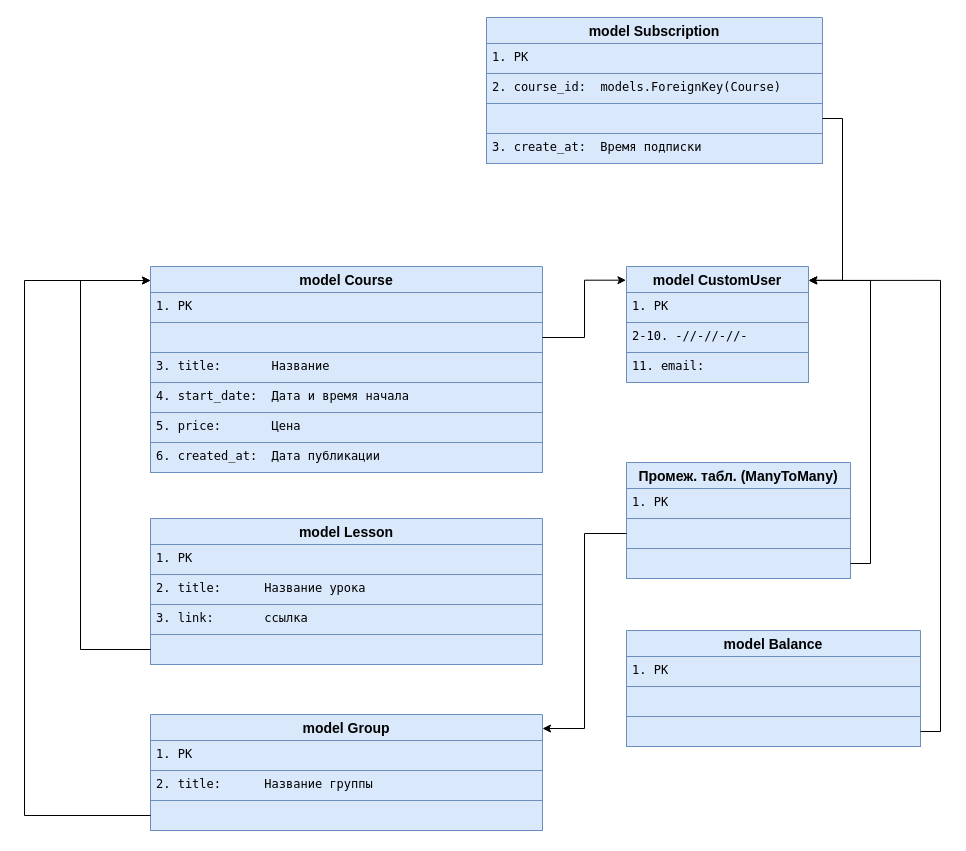
Image size: 966x851. Some labels were removed from this diagram. Each missing label, with the centre of its shape:
"2. author_id: models.ForeignKey('users.CustomUser')" goes at (346,337).
"2. balance:" goes at (773,701).
"2. group_id:" goes at (738,533).
"3. course_id: models.ForeignKey(Course)" goes at (346,815).
"3. customuser_id:" goes at (738,563).
"3. user_id: models.ForeignKey(CustomUser)" goes at (654,118).
"3. user_id: models.OneToOne( CustomUser )" goes at (773,731).
"4. course_id: models.ForeignKey(Course)" goes at (346,649).
